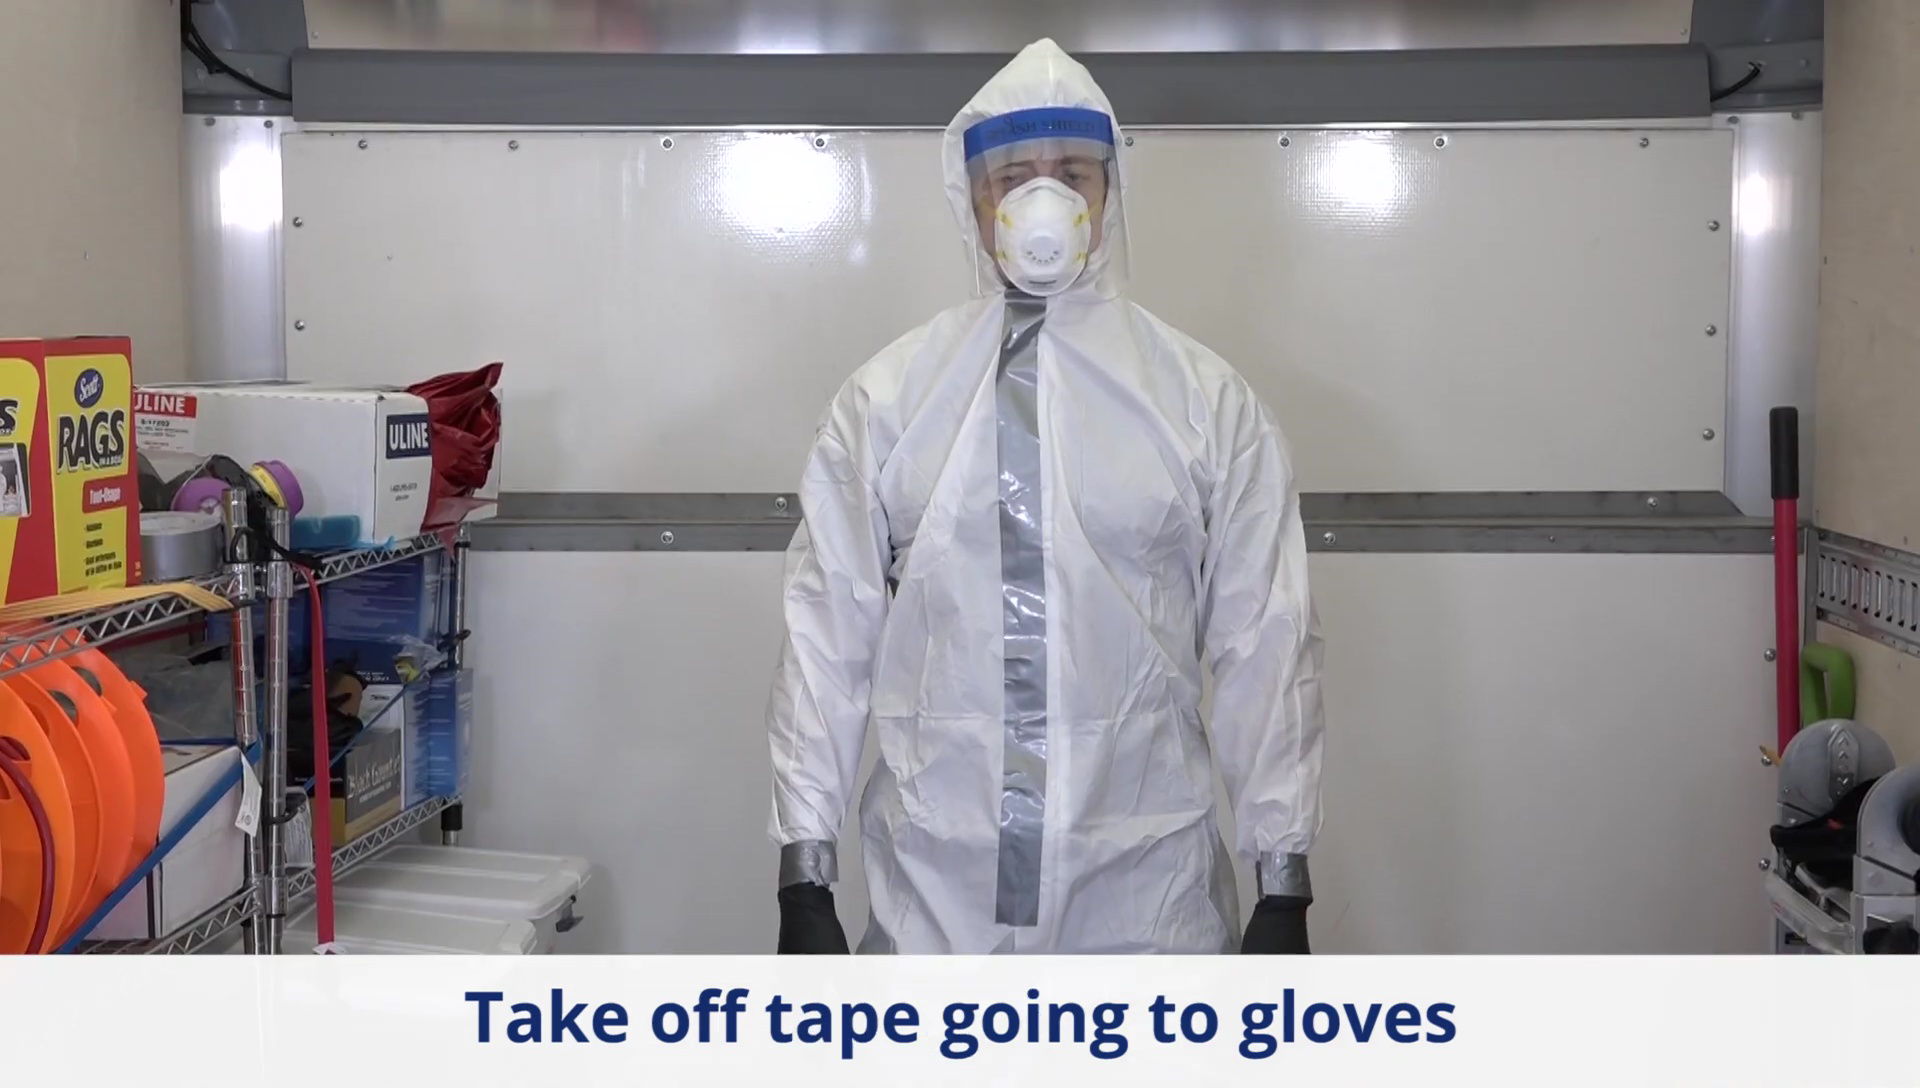Coverall: (767, 42, 1325, 951)
Face_Shield: (953, 104, 1135, 322)
Gloves: (1240, 829, 1315, 953), (775, 835, 848, 953)
with_mask: (987, 153, 1096, 298)
